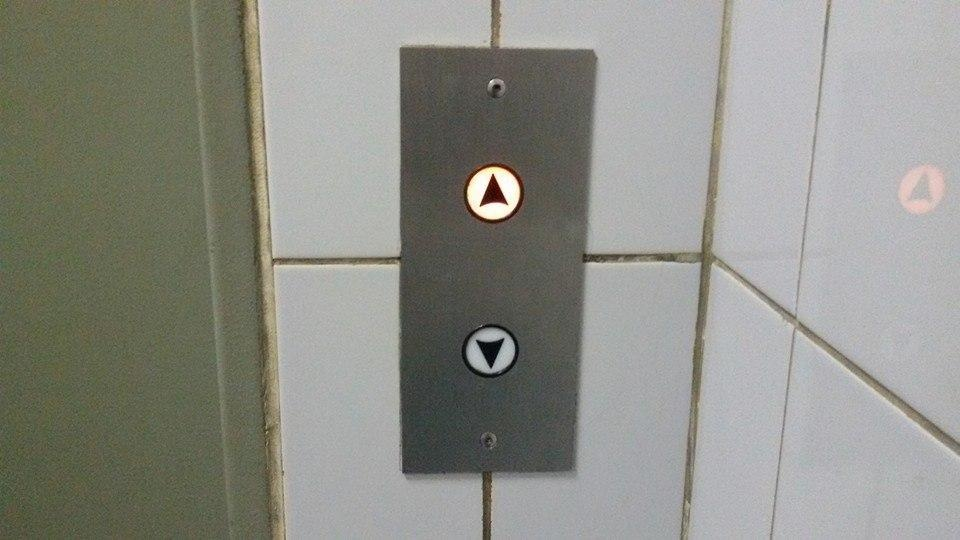down: (457, 316, 522, 386)
up: (460, 158, 525, 228), (887, 158, 952, 228)
